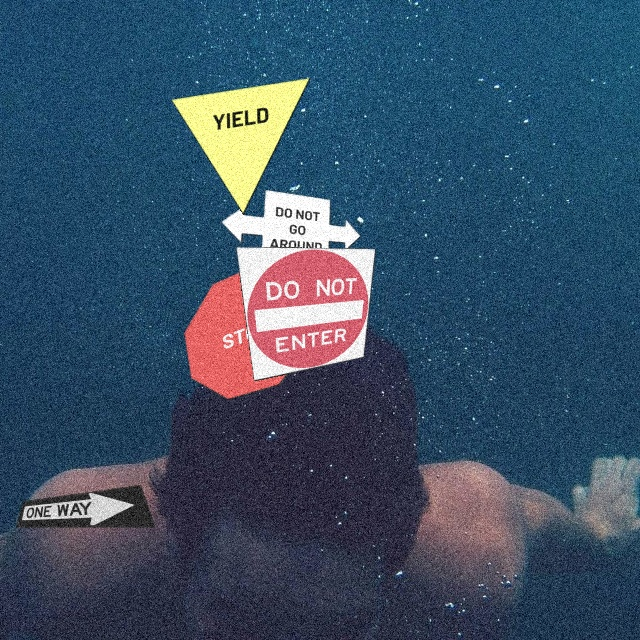DO_NOT_ENTER: (235, 246, 376, 381)
DO_NOT_GO_AROUND: (220, 189, 361, 268)
ONE_WAY_ right: (15, 484, 156, 528)
STOP: (183, 259, 317, 400)
YIELD: (170, 77, 311, 215)
